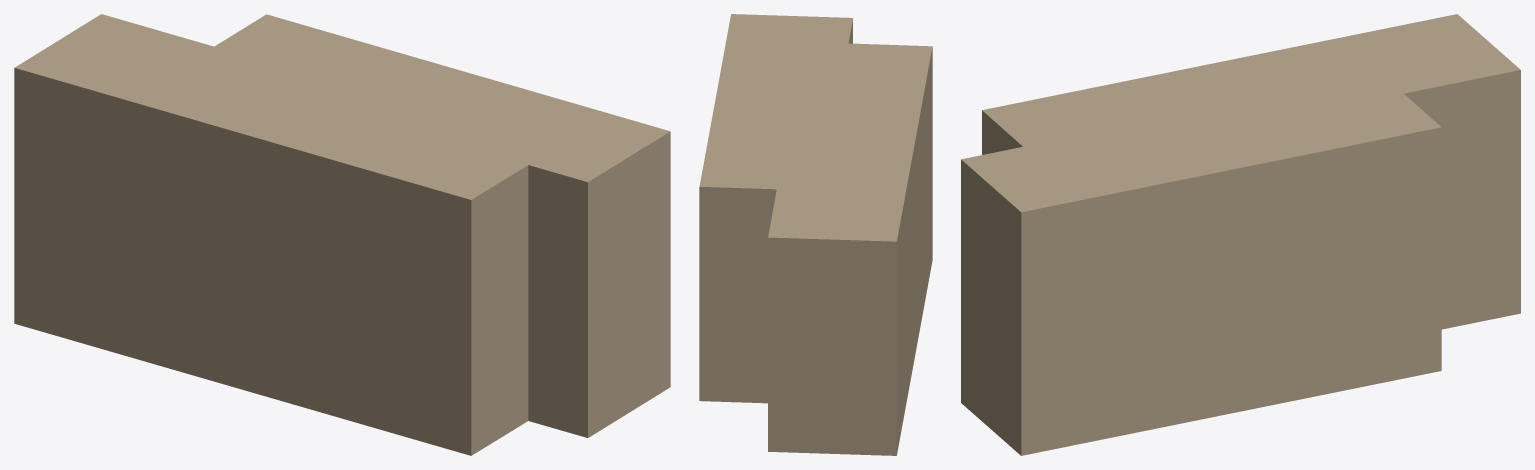
Rendered from bld_107625506.dae.
The picture shows the model from 3 angles, left to right: view 1: azimuth 30°, elevation 25°; view 2: azimuth 150°, elevation 25°; view 3: azimuth 270°, elevation 25°; orthographic projection. The views are drawn at different scales.
Visible parts, largest first — view 1: bld_107625506; view 2: bld_107625506; view 3: bld_107625506.
Part boxes in pixels (x1,y1,x2,y2): bld_107625506: (14,14,670,455); bld_107625506: (699,14,932,455); bld_107625506: (961,14,1520,455).
Bounding box in the file's own units: 13.97 × 16.66 × 8.
